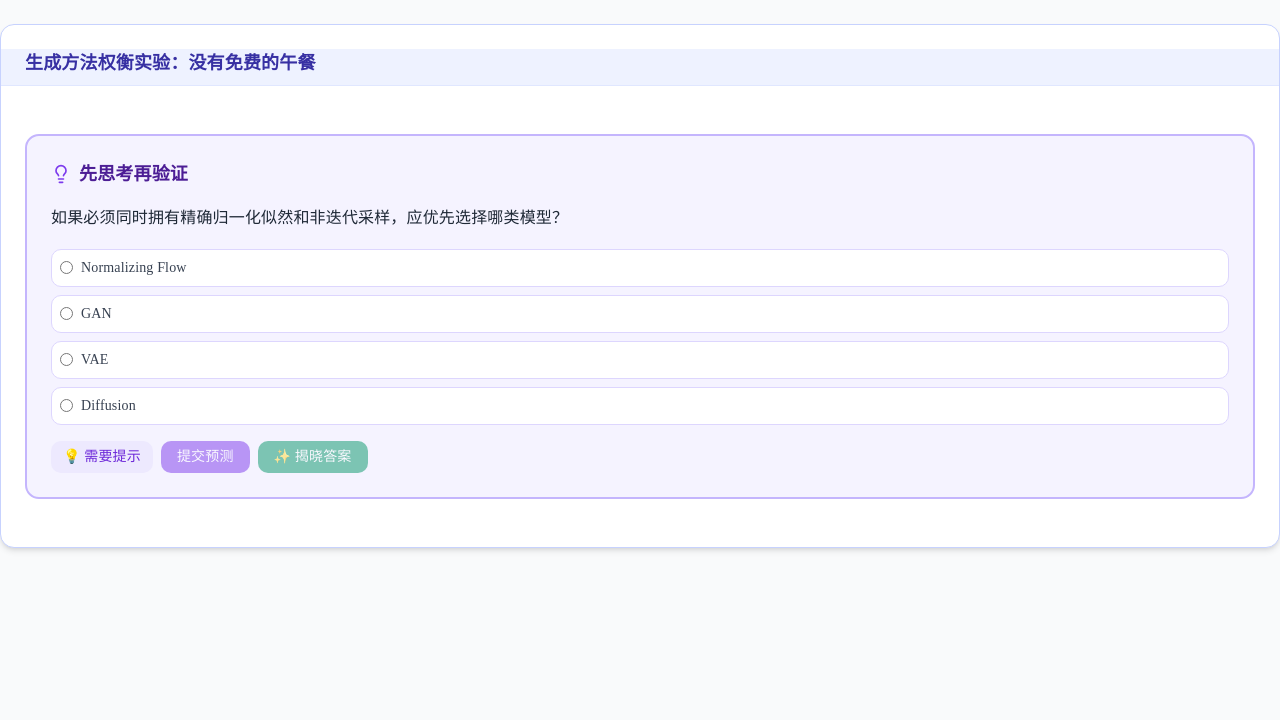
Test: chapter 13 continuous latent variables teaching-ready loop › gates the nonlinear lab until a prediction is submitted
Click the radio button labelled "Normalizing Flow" at x=66, y=268, box [60,261,73,274]
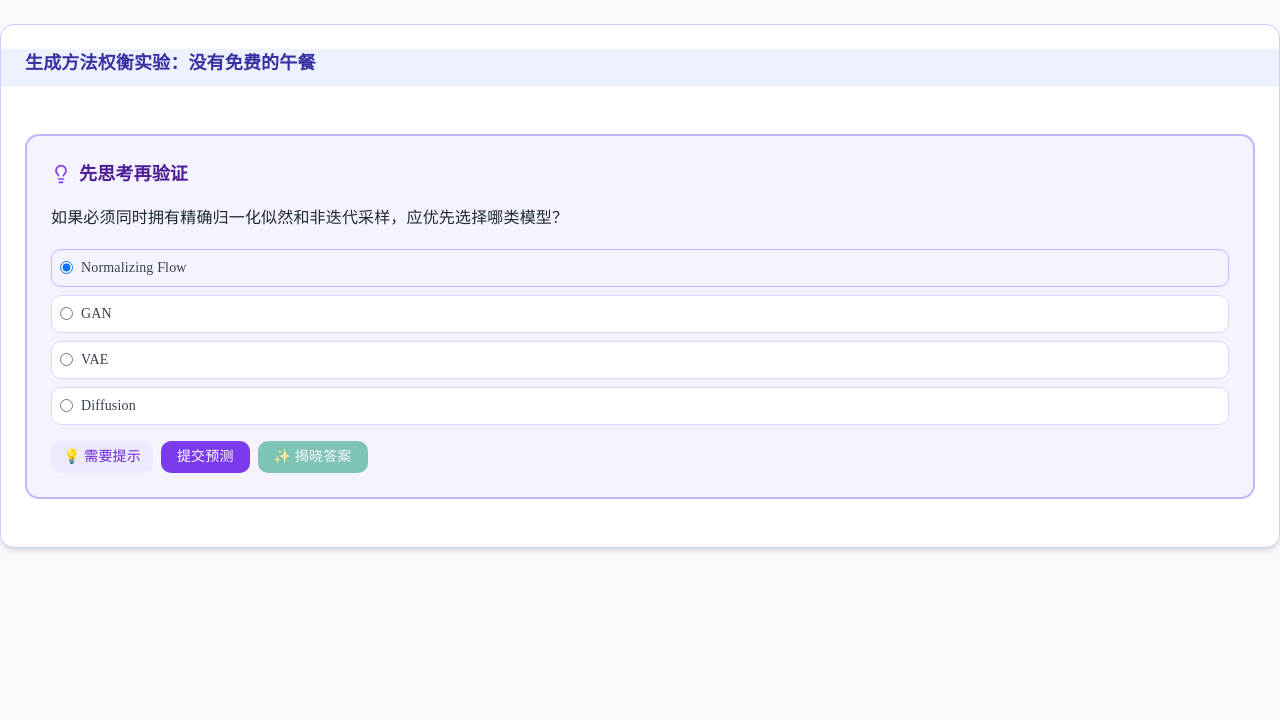
Click the button "提交预测" at x=205, y=457, box [161,441,250,473]
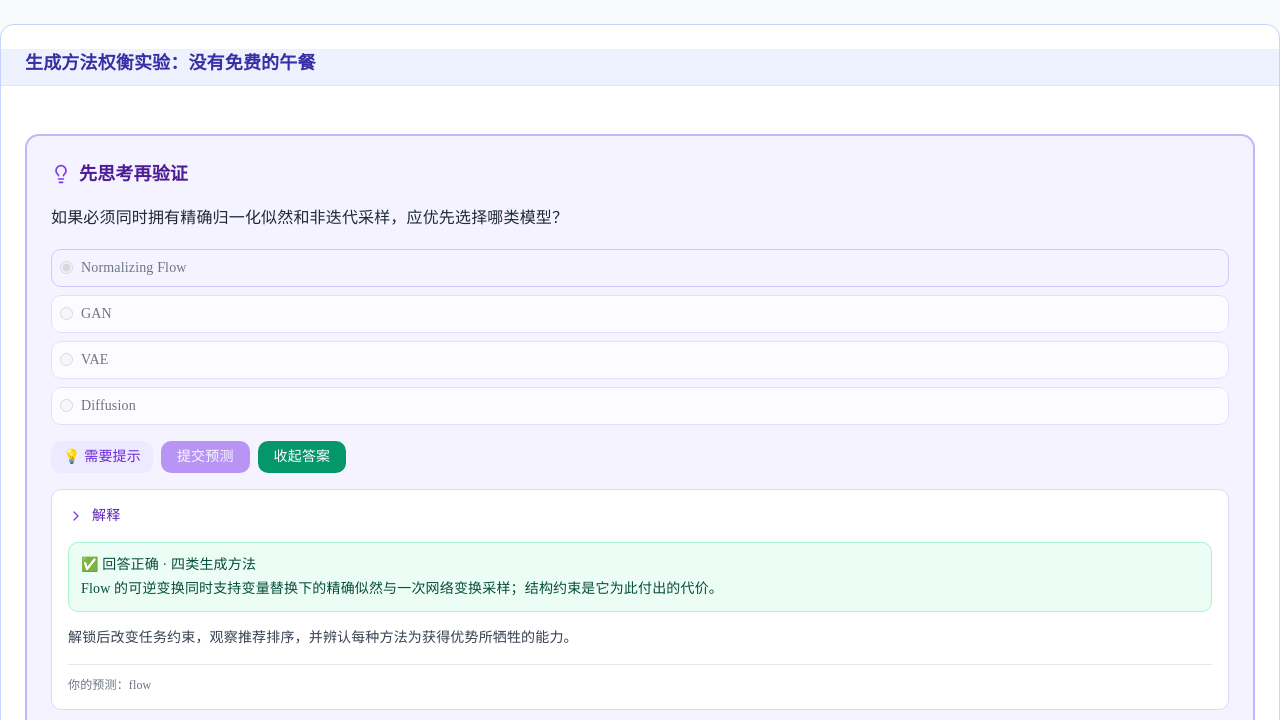
Result: the element with test id "evaluation-feedback" shows "回答正确" at [81,557,159,572]
